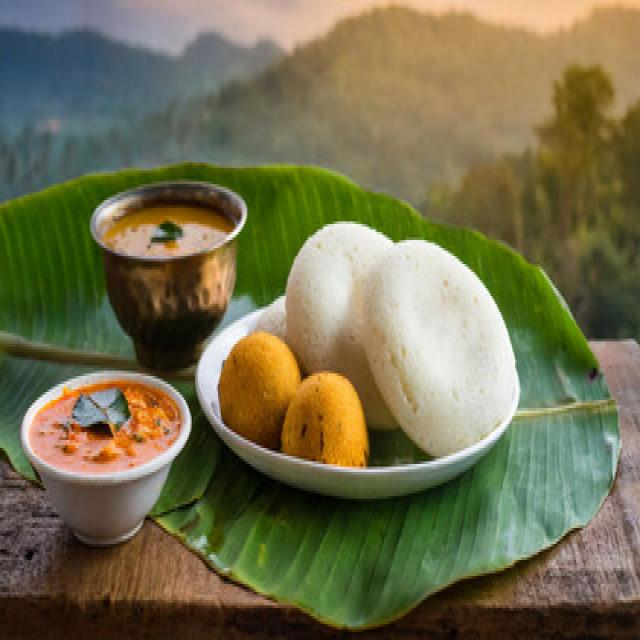BONDA: (216, 332, 371, 467)
IDLI: (286, 220, 520, 456)
RED CHUTNEY: (29, 379, 182, 477)
SAMBAR: (104, 205, 236, 256)
